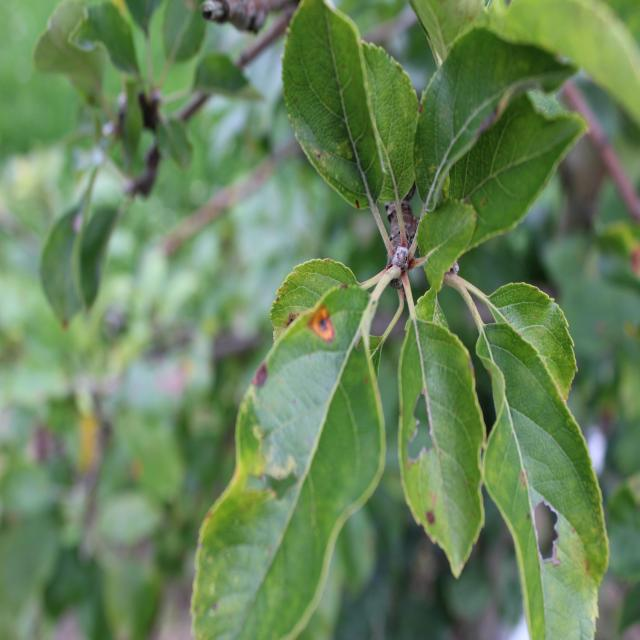rust: (190, 258, 387, 640)
